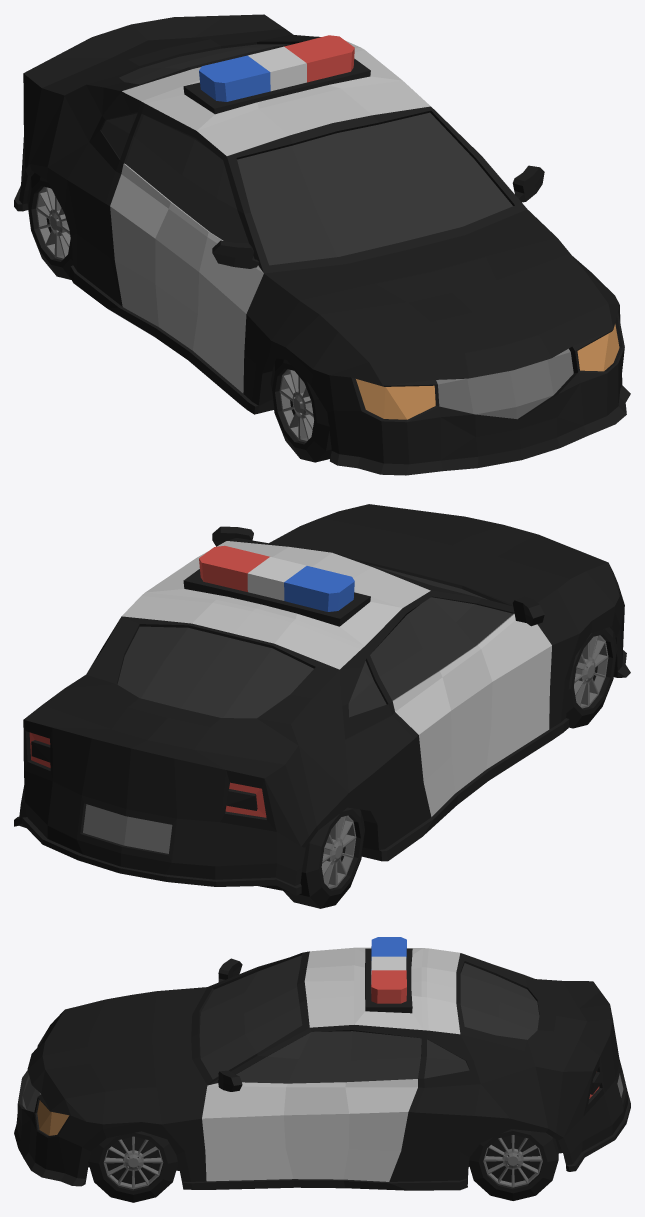
The model's file is t-police.glb.
3 renders of one model, top to bottom at view 1: azimuth 30°, elevation 25°; view 2: azimuth 150°, elevation 25°; view 3: azimuth 270°, elevation 25°, orthographic. The views are drawn at different scales.
Visible parts, largest first — view 1: Cop_Cube.001, Cop_FrontRightWheel_Cylinder.012, Cop_BackWheels_Cylinder.001; view 2: Cop_Cube.001, Cop_BackWheels_Cylinder.001, Cop_FrontRightWheel_Cylinder.012; view 3: Cop_Cube.001, Cop_BackWheels_Cylinder.001, Cop_FrontLeftWheel_Cylinder.011.
Part boxes in pixels (left/top/right/bottom): Cop_Cube.001: left=14, top=14, right=630, bottom=475; Cop_FrontRightWheel_Cylinder.012: left=270, top=358, right=331, bottom=462; Cop_BackWheels_Cylinder.001: left=27, top=173, right=73, bottom=279; Cop_Cube.001: left=14, top=504, right=630, bottom=895; Cop_BackWheels_Cylinder.001: left=283, top=807, right=364, bottom=908; Cop_FrontRightWheel_Cylinder.012: left=566, top=627, right=617, bottom=728; Cop_Cube.001: left=14, top=937, right=630, bottom=1190; Cop_BackWheels_Cylinder.001: left=469, top=1129, right=558, bottom=1200; Cop_FrontLeftWheel_Cylinder.011: left=88, top=1131, right=178, bottom=1202.
Bounding box in the file's own units: 1.78 × 1.24 × 3.73.
